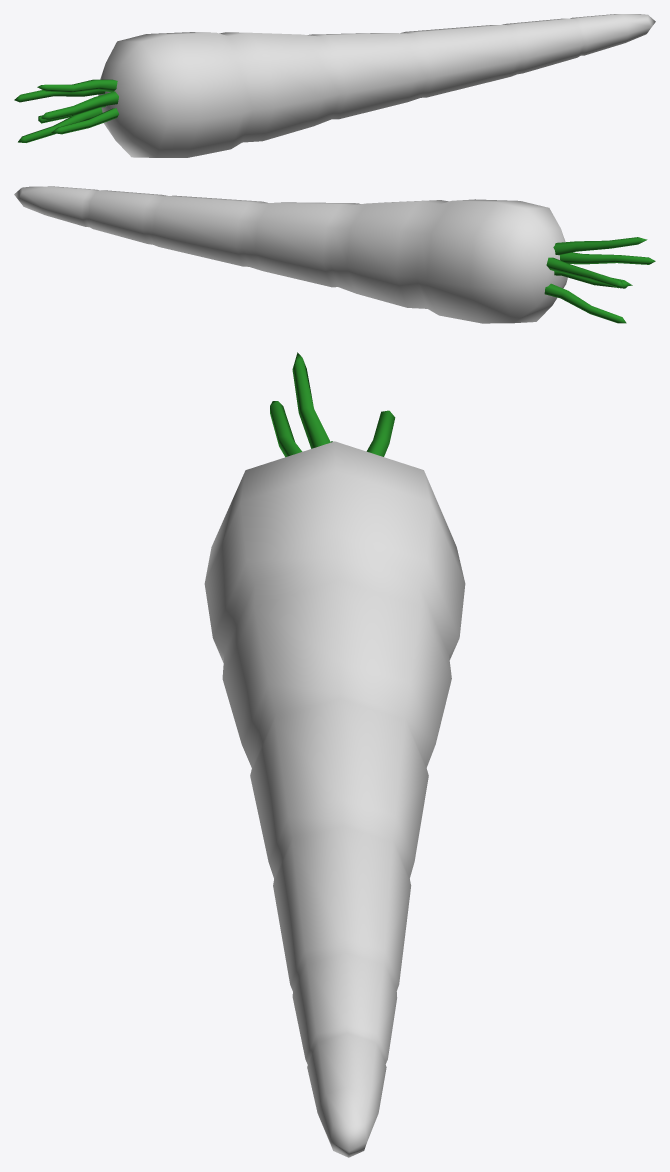
The model's file is carrot.fbx.
3 renders of one model, top to bottom at view 1: azimuth 30°, elevation 25°; view 2: azimuth 150°, elevation 25°; view 3: azimuth 270°, elevation 25°, orthographic. The views are drawn at different scales.
Parts seen in each view (by area): view 1: carrot; view 2: carrot; view 3: carrot.
Boxes of the visible parts, left/top/right/bottom form: carrot: left=14, top=14, right=655, bottom=157; carrot: left=14, top=186, right=655, bottom=323; carrot: left=204, top=352, right=465, bottom=1157.
Bounding box in the file's own units: 924 × 173 × 168.
